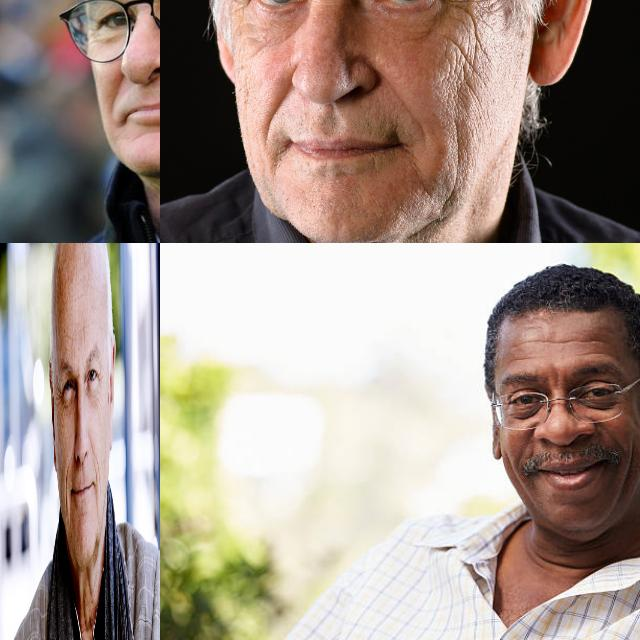chin: (132, 125, 160, 139)
crows_feet: (438, 0, 475, 11), (55, 378, 62, 419), (98, 360, 104, 388)
forehead: (520, 332, 610, 348), (61, 327, 73, 344), (82, 317, 86, 345)
frown_line: (550, 366, 562, 389)
gummy_smile: (263, 66, 295, 132), (376, 68, 416, 120), (108, 64, 124, 108), (92, 447, 102, 485), (64, 462, 68, 514)
masseter: (449, 20, 486, 90), (445, 114, 465, 210), (621, 444, 637, 500), (500, 450, 518, 482)
